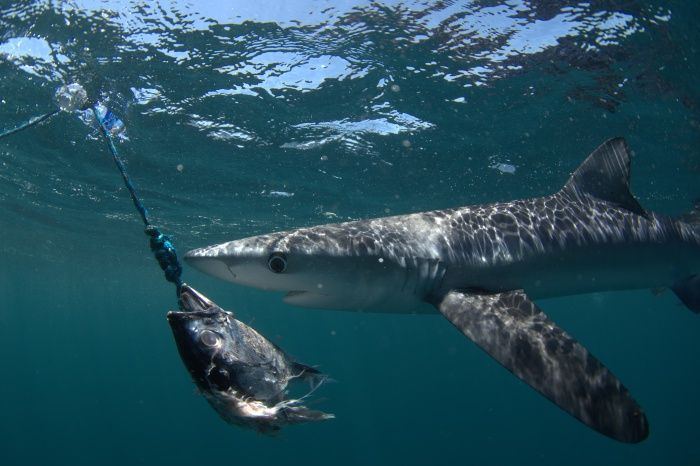Azul: (165, 134, 700, 453)
